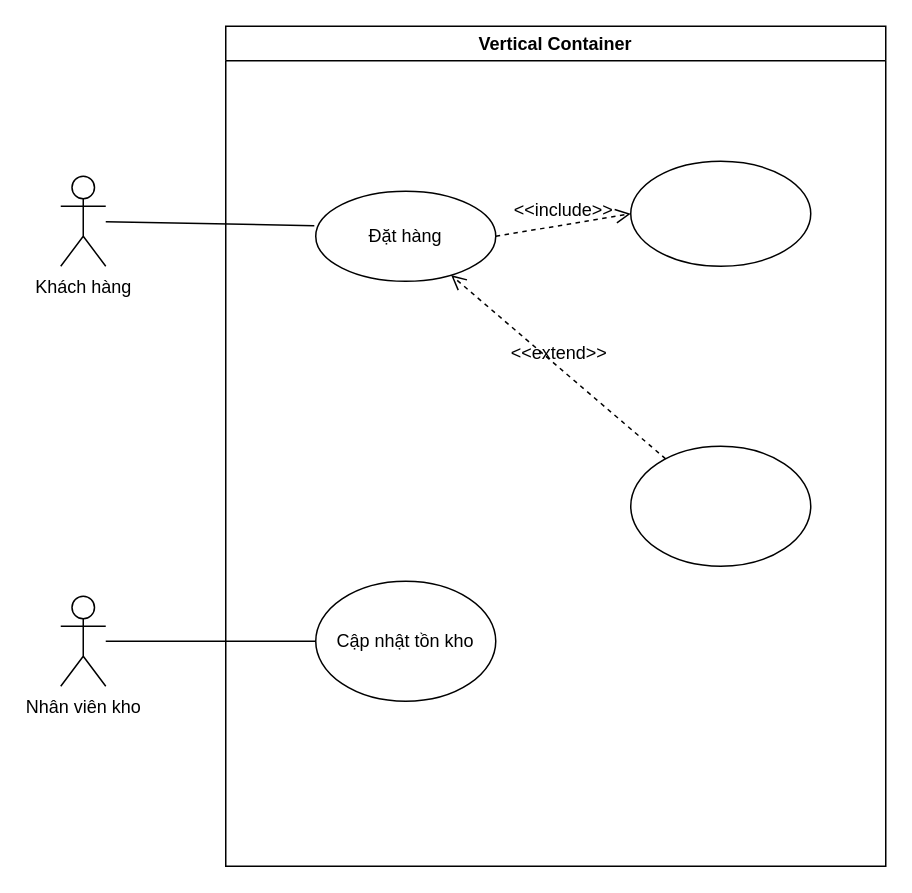
Image size: 912x893. Some labels were removed from this diagram. The centre of each missing label's shape, as x and y in pixels:
Áp dụng mã giảm giá: [720,505]
Đăng nhập: [720,213]
